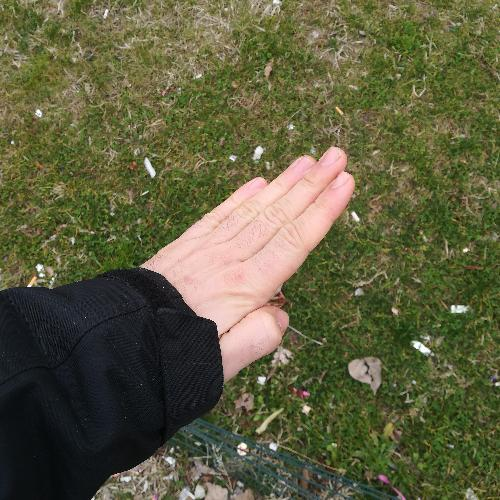paper: (131, 140, 360, 388)
